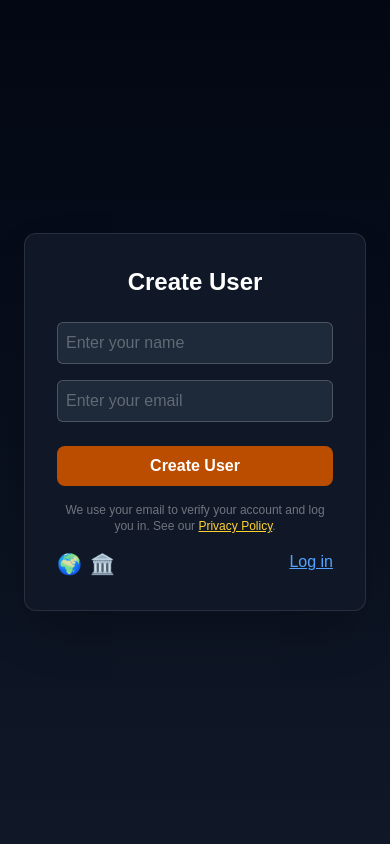
SignupPage › shows an awaiting-verification state and does not navigate home when pending
Type "Alice" into the field with placeholder "Enter your name".
click(195, 343); type("Alice")  # box [57,322,333,364]
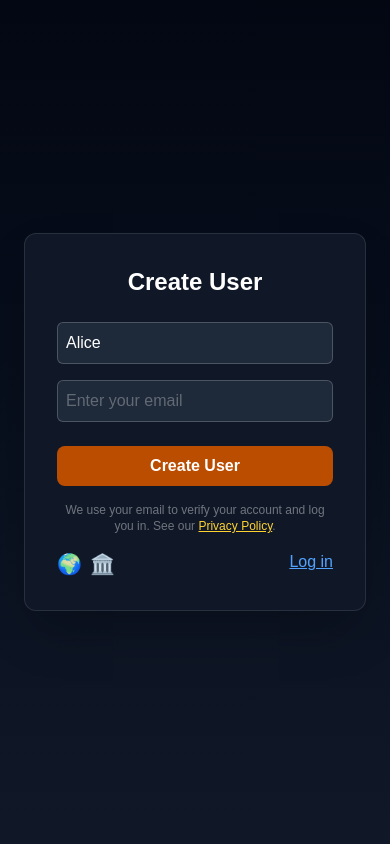
Type "alice@example.com" into the field with placeholder "Enter your email".
click(195, 401); type("alice@example.com")  # box [57,380,333,422]
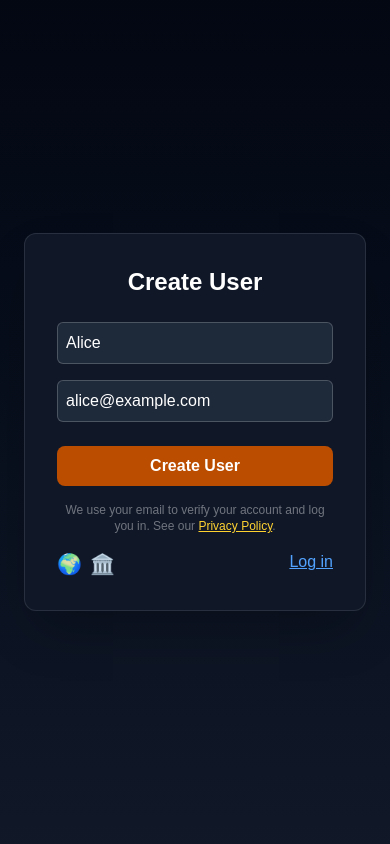
Click the button "Create User".
click(195, 466)  # box [57,446,333,486]
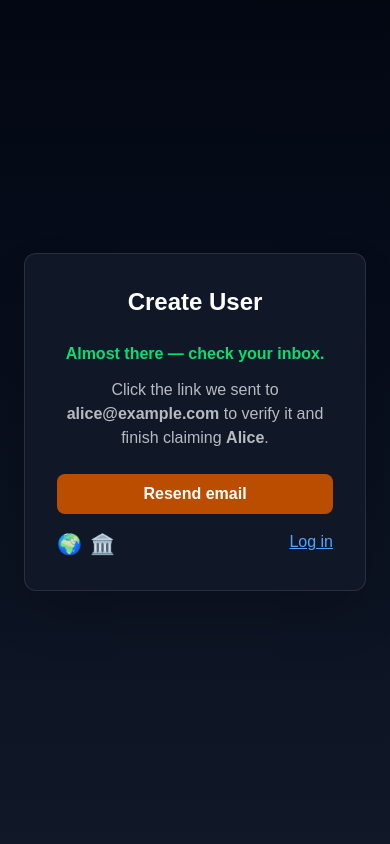
Result: the text "Almost there — check your inbox." is shown at [57,342,333,366]
Result: the text "Alice" is shown at [226,429,264,446]
Result: the text "alice@example.com" is shown at [67,405,219,422]
